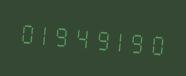four: (74, 18, 92, 55)
nine: (55, 16, 73, 54), (93, 20, 111, 57), (131, 23, 149, 60)
one: (112, 21, 130, 59), (36, 15, 54, 52)
zero: (17, 13, 35, 50), (150, 25, 168, 62)
